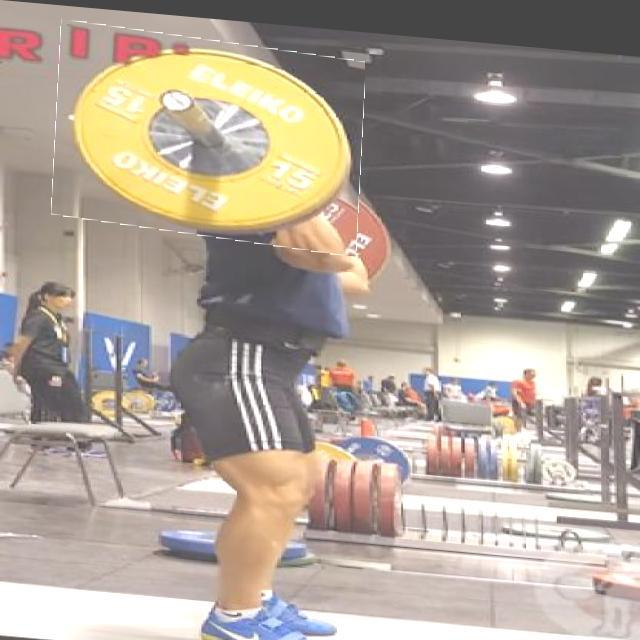barbell: (55, 23, 364, 248)
